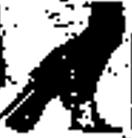Owl: (1, 1, 129, 136)
